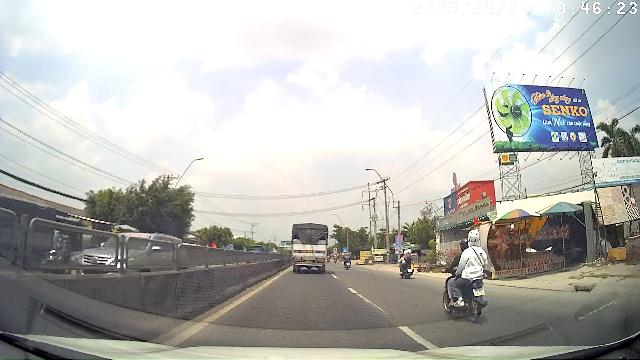423a-duong-nguoi-di-bo-sang-ngang-1: (343, 247, 348, 253)
